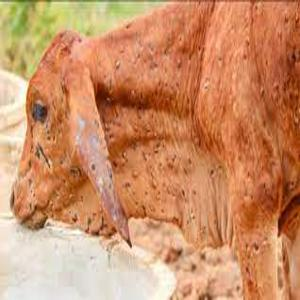lumpy skin diesease: (8, 0, 299, 299)
